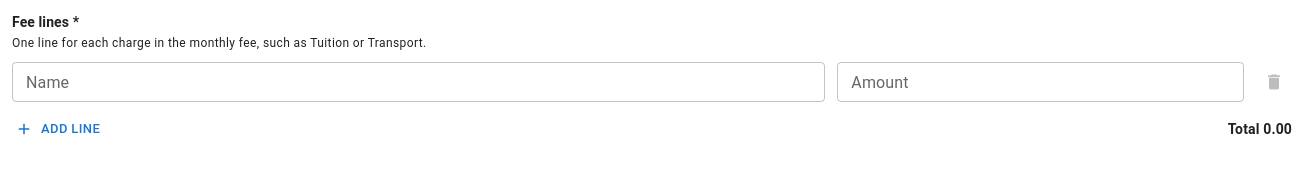
Test: FeeBreakdownInput › hands over valid JSON as lines are filled in, and an empty value while incomplete
In the field named "Fee name 1": point(419, 82) x1=12 y1=62 x2=825 y2=102, type "Tuition"
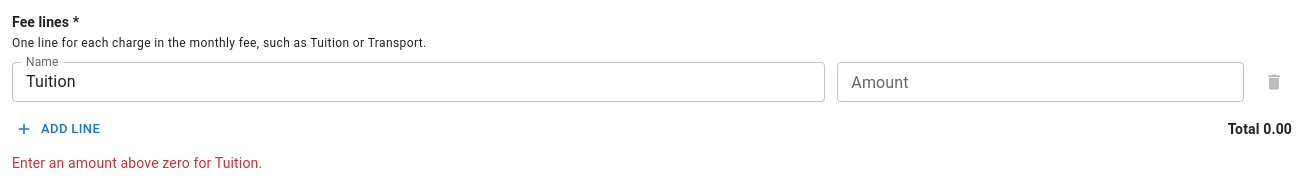
Check: the message reads "Enter an amount above zero for Tuition.", box x1=12 y1=155 x2=262 y2=171
In the number field named "Fee amount 1": point(1041, 82) x1=837 y1=62 x2=1244 y2=102, type "5000"
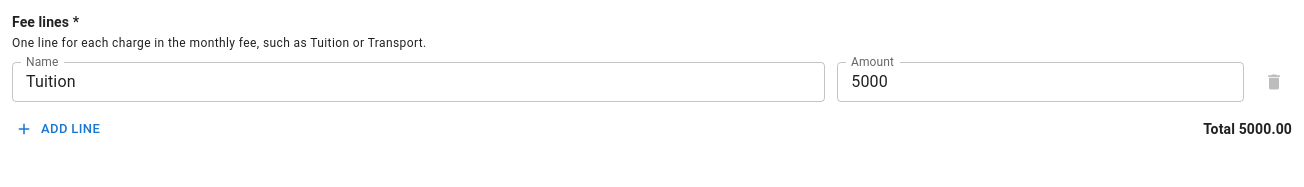
Check: the message "Enter an amount above zero for Tuition." is gone
